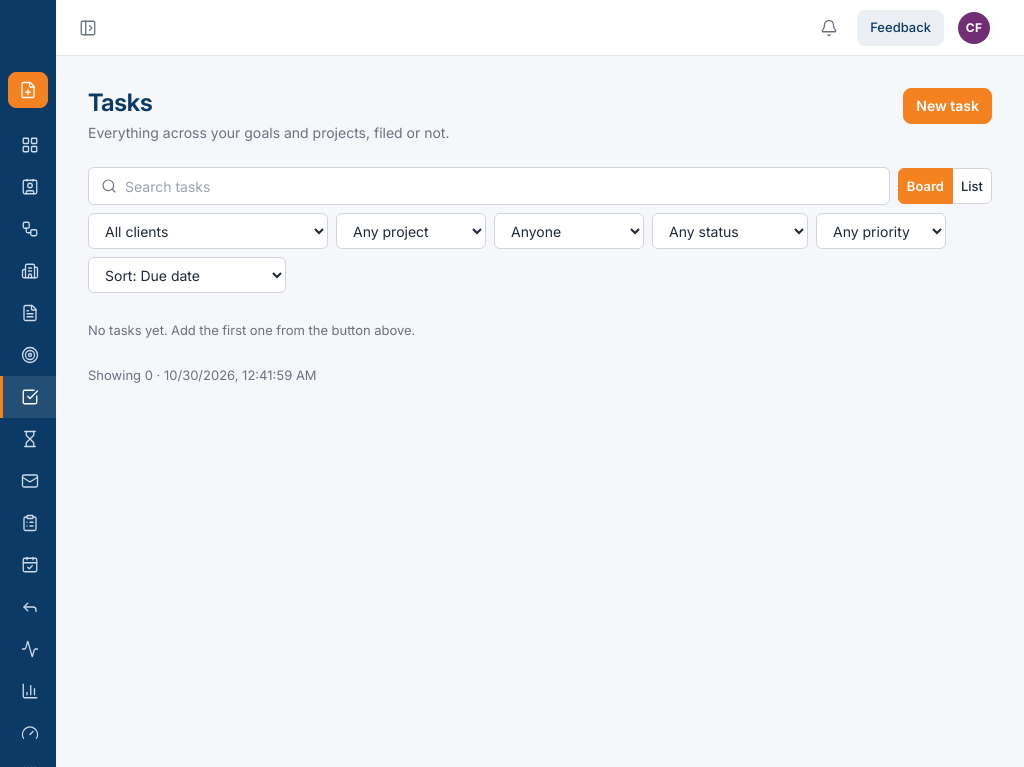
Test case: the top bar › names the person, their role by name, and the practice in the menu
expect the header named "Top bar" is shown: met, box [56, 0, 1023, 56]
Click the button with aria-label "Your account" at (974, 28), box [956, 10, 992, 46]
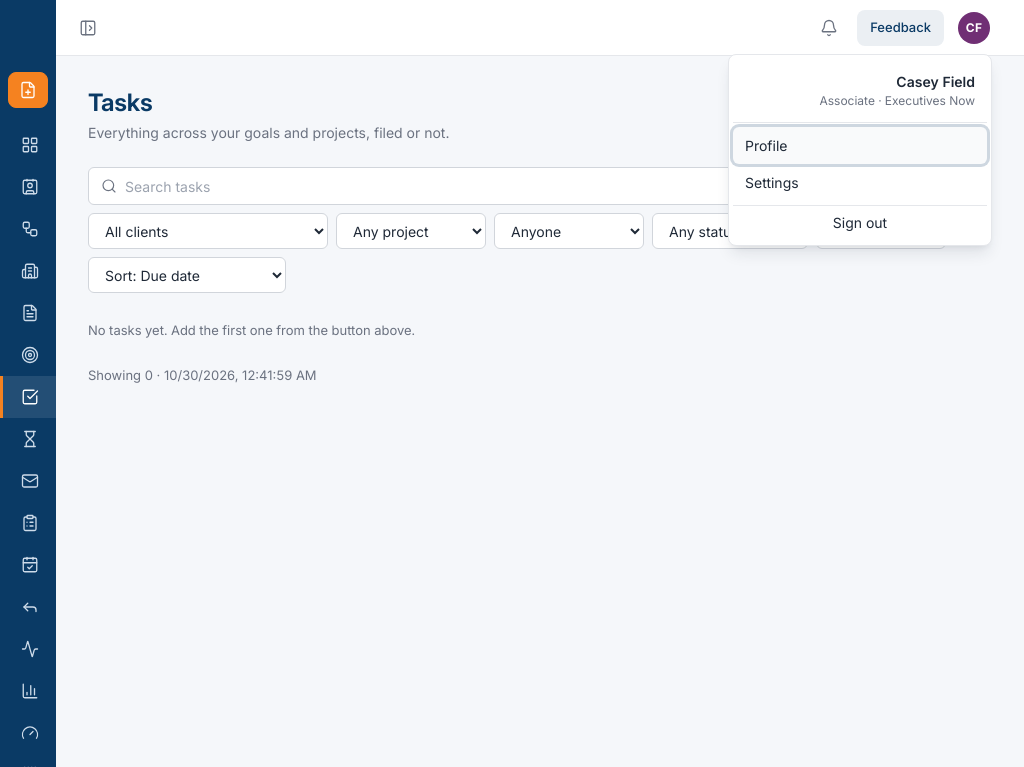
expect the text "Casey Field" is shown: met, box [896, 72, 975, 90]
expect the text "Associate · Executives Now" is shown: met, box [820, 92, 975, 108]
